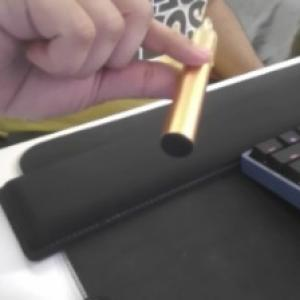Golden-E-Ciggirate: (158, 16, 218, 159)
